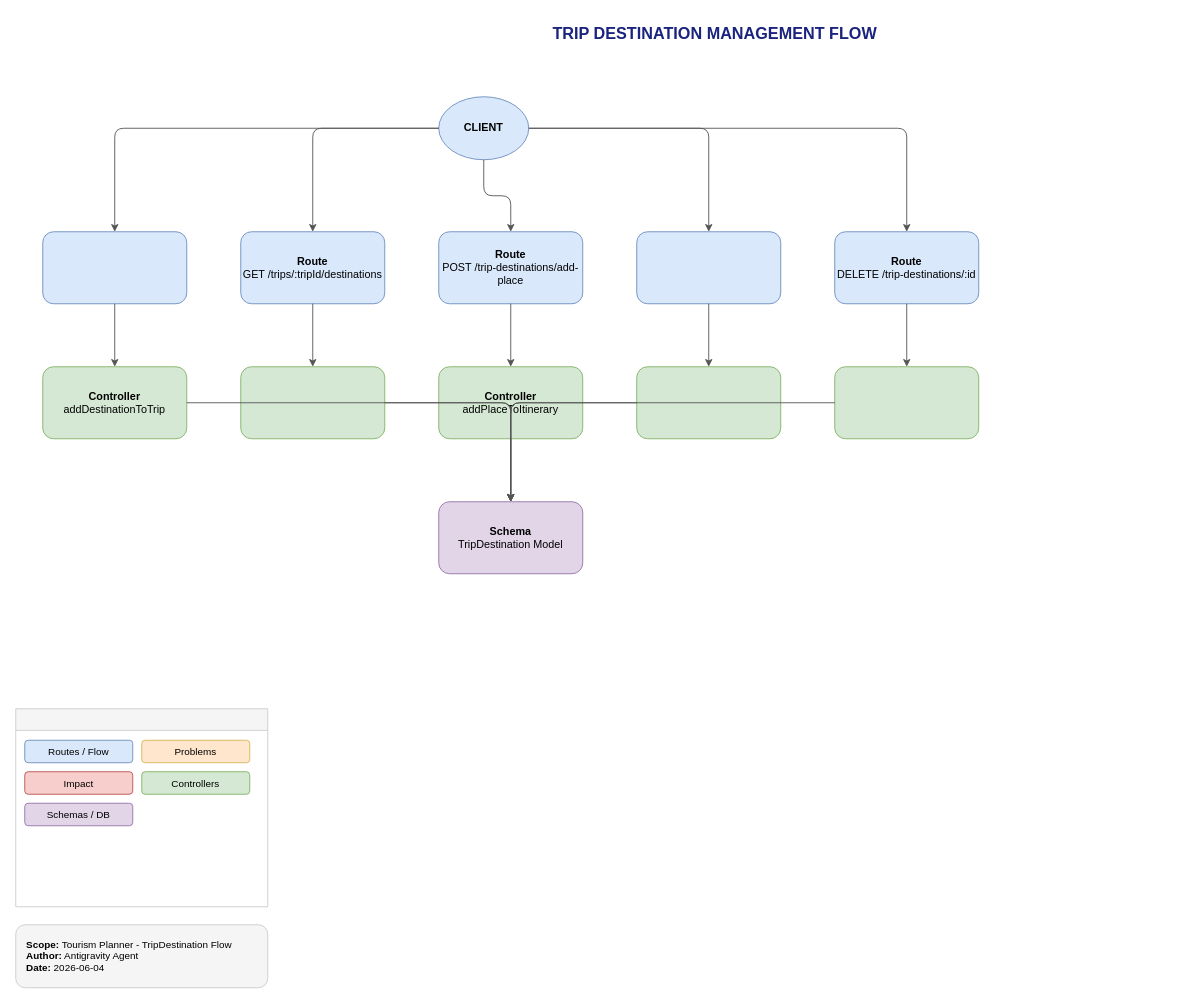
The diagram is 1181 pixels wide and 1004 high, and some of its shapes have lost their labels. The box of each missing label's shape, as (x1, y1, x2, y2) in pixels:
Controller deleteTripDestinationById: (834, 366, 979, 439)
Controller getTripDestinations: (240, 366, 385, 439)
Controller updateTripDestinationById: (636, 366, 781, 439)
LEGEND: (15, 708, 268, 907)
Route PATCH /trip-destinations/:id: (636, 231, 781, 304)
Route POST /trips/:tripId/destinations: (42, 231, 187, 304)
